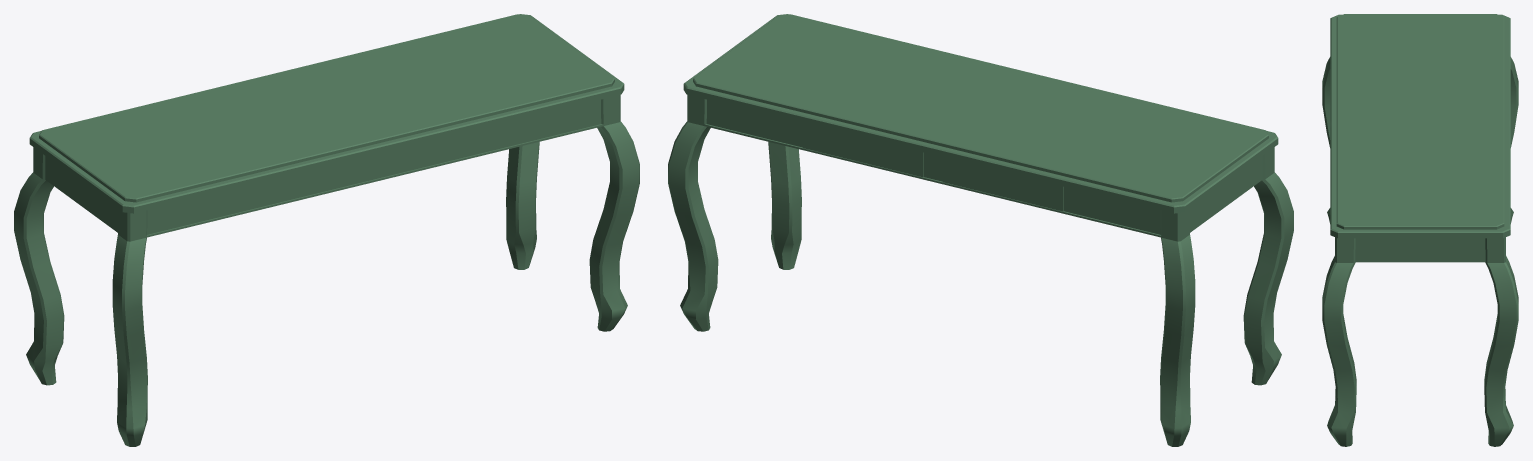
Rendered from BgMD_desk (3).fbx.
3 views of the same model, side by side, from view 1: azimuth 30°, elevation 25°; view 2: azimuth 150°, elevation 25°; view 3: azimuth 270°, elevation 25° (orthographic). The views are drawn at different scales.
Visible parts, largest first — view 1: Bg_desk1; view 2: Bg_desk1; view 3: Bg_desk1.
Boxes of the visible parts, box(x1,y1,x2,y2) form: Bg_desk1: box(14, 14, 639, 446); Bg_desk1: box(668, 14, 1293, 446); Bg_desk1: box(1322, 14, 1518, 446).
Size of the model in its own units: 155 by 71.05 by 57.01.
Materials: 1 (1 with a texture image).
